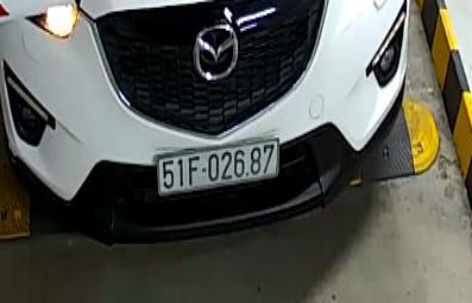plate: (157, 136, 295, 191)
